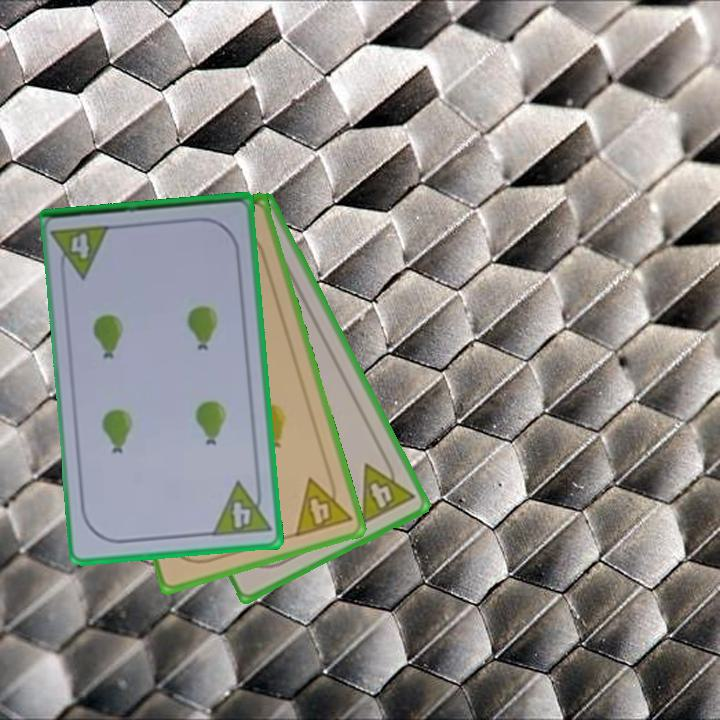4p: (357, 451, 418, 528), (291, 469, 355, 540), (209, 477, 274, 540), (50, 221, 115, 282)
